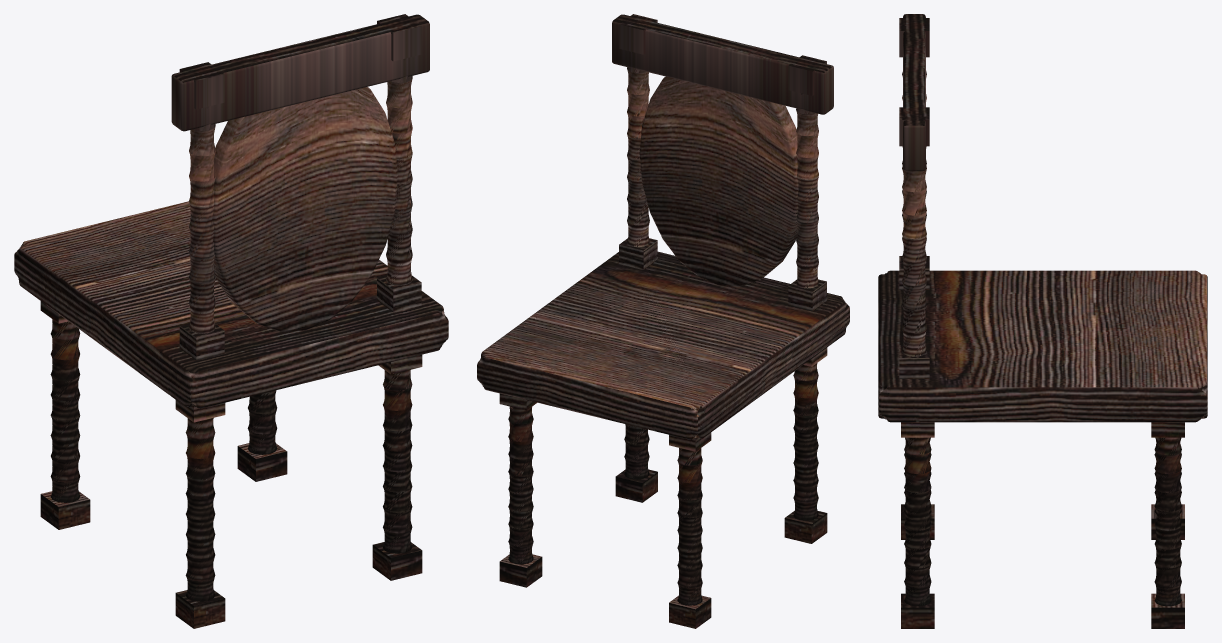
The model's file is Antique_Chair_08.fbx.
3 views of the same model, side by side, from view 1: azimuth 30°, elevation 25°; view 2: azimuth 150°, elevation 25°; view 3: azimuth 270°, elevation 25° (orthographic). The views are drawn at different scales.
Parts seen in each view (by area): view 1: Antique_Chair; view 2: Antique_Chair; view 3: Antique_Chair.
Boxes of the visible parts, box(x1,y1,x2,y2) form: Antique_Chair: box(14, 14, 448, 628); Antique_Chair: box(477, 14, 849, 628); Antique_Chair: box(878, 14, 1207, 628).
Bounding box in the file's own units: 0.48 × 0.97 × 0.57.
1 material, 1 textured.
